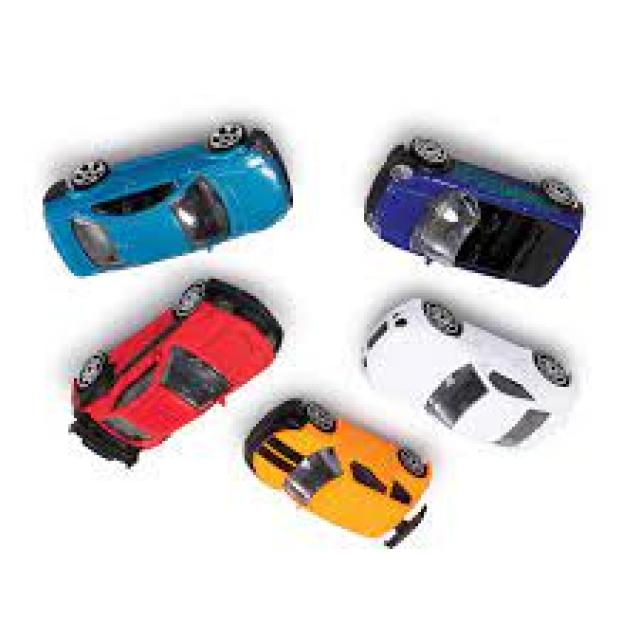Car: (66, 279, 282, 472), (40, 122, 293, 279), (361, 140, 583, 290), (358, 299, 574, 452), (242, 401, 432, 552)
